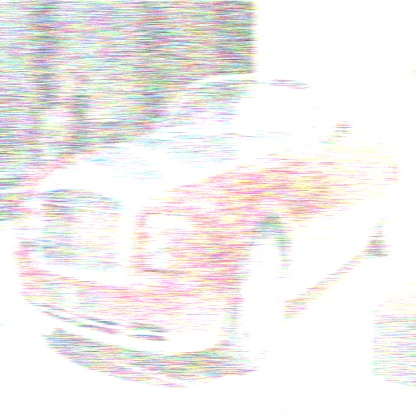Vehicle: (13, 74, 405, 375)
